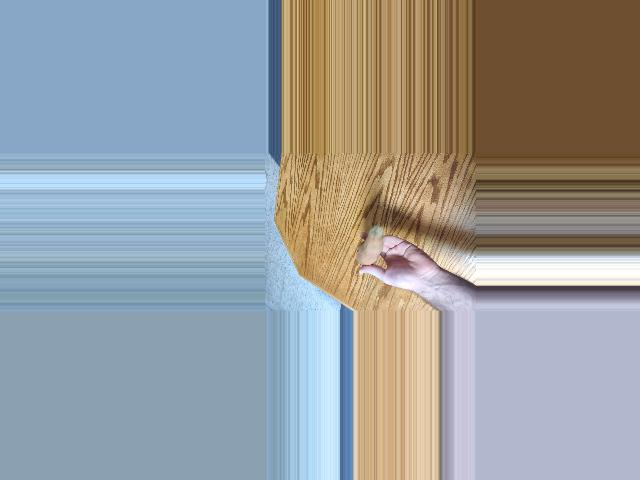sweet_potato: (361, 225, 387, 268)
